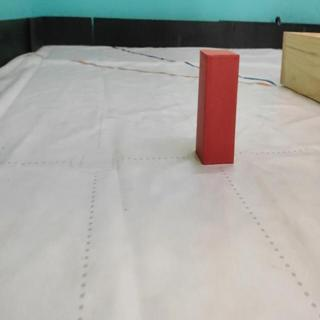redbox: (197, 47, 239, 165)
